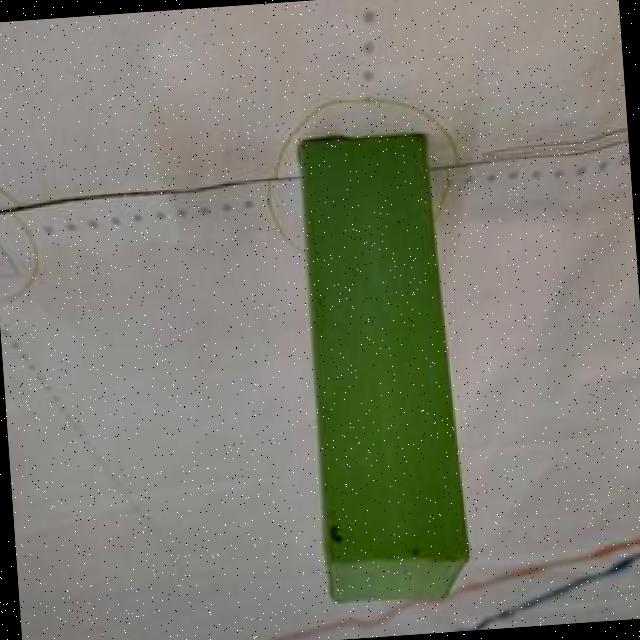greenbox: (293, 125, 473, 612)
